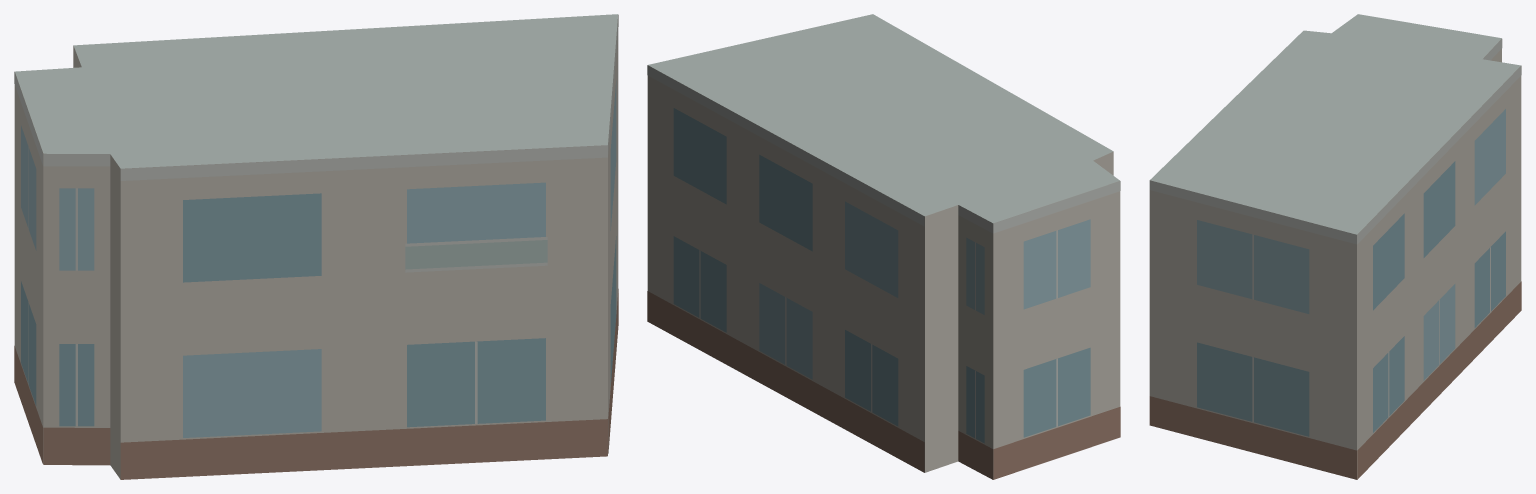
File: survey-upis-32488317.glb
3 views of the same model, side by side, from view 1: azimuth 30°, elevation 25°; view 2: azimuth 150°, elevation 25°; view 3: azimuth 270°, elevation 25° (orthographic). The views are drawn at different scales.
Parts seen in each view (by area): view 1: survey-upis-32488317.tmp; view 2: survey-upis-32488317.tmp; view 3: survey-upis-32488317.tmp.
Part boxes in pixels (x1=…): survey-upis-32488317.tmp: x1=14, y1=14, x2=618, y2=479; survey-upis-32488317.tmp: x1=647, y1=14, x2=1120, y2=479; survey-upis-32488317.tmp: x1=1149, y1=14, x2=1521, y2=479.
Size of the model in its own units: 11.79 by 6.1 by 8.39.
